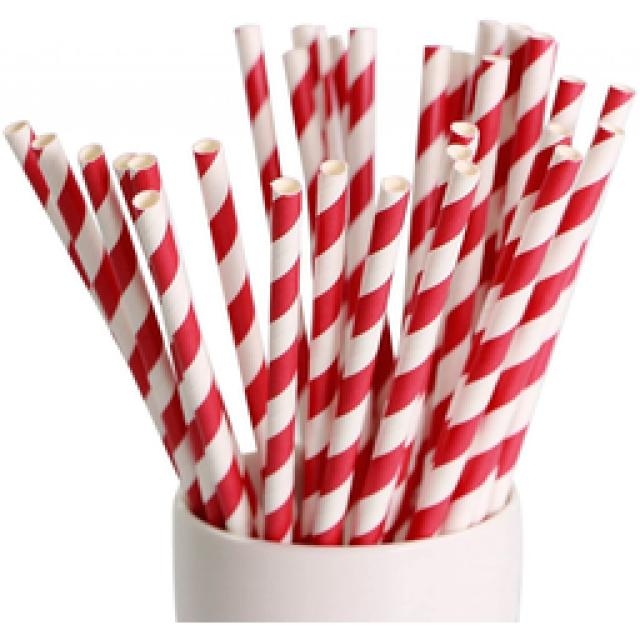plastic: (0, 15, 635, 547), (0, 117, 250, 535)
